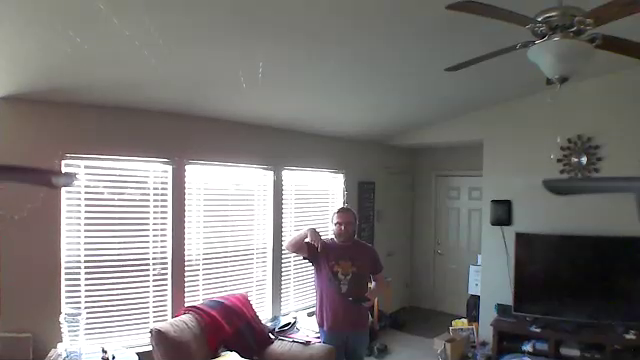down: (302, 223, 329, 255)
